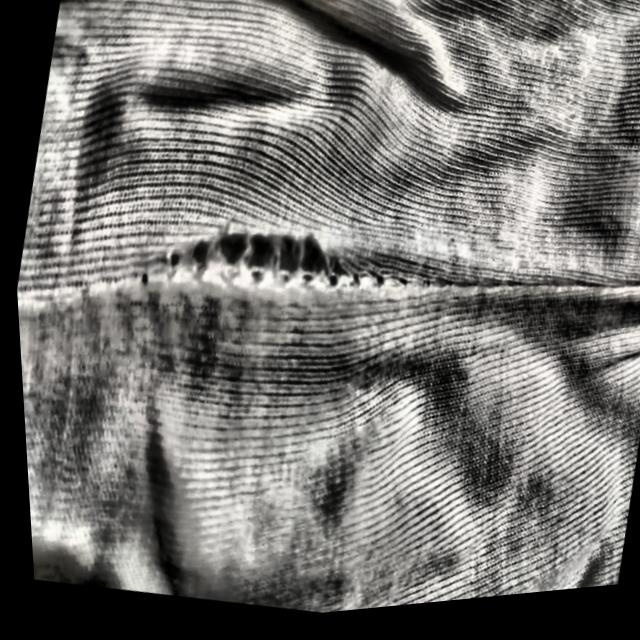Stitch: (162, 197, 350, 315)
